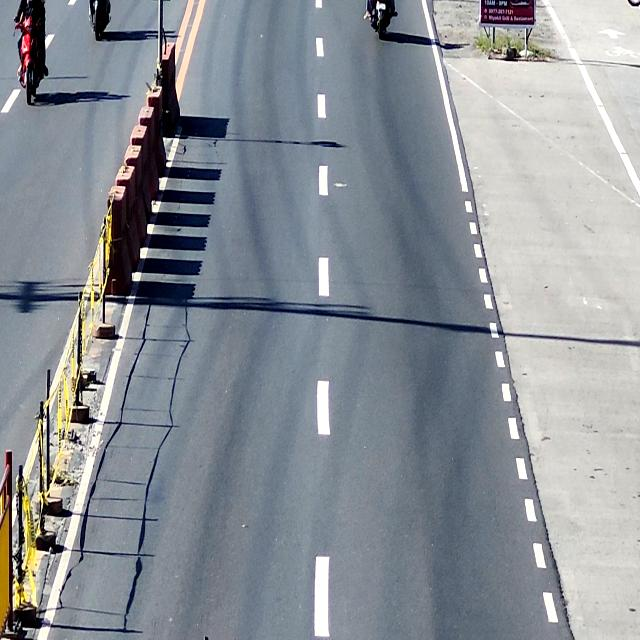Motorcycle: (15, 0, 48, 107), (368, 0, 398, 40), (89, 0, 110, 45)
